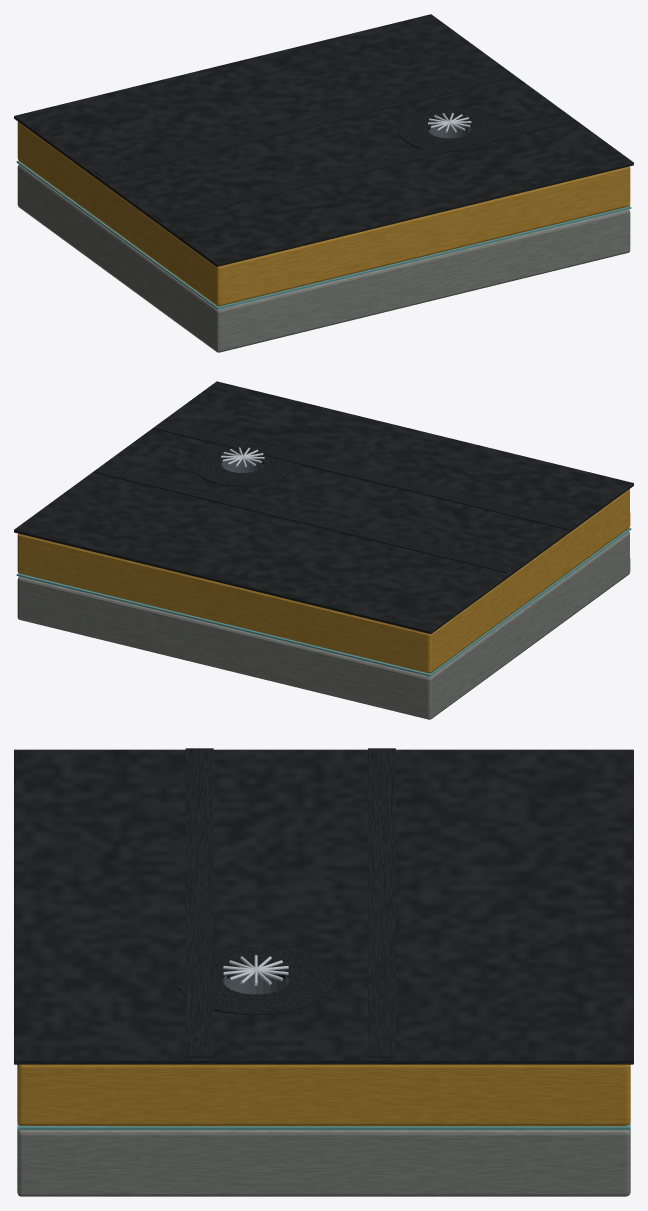
Rendered from modell.glb.
3 views of the same model, one above another, from view 1: azimuth 30°, elevation 25°; view 2: azimuth 150°, elevation 25°; view 3: azimuth 270°, elevation 25° (orthographic). The views are drawn at different scales.
Visible parts, largest first — view 1: f03-abdichtung_deckung, f03-untergrund_tragwerk, f03-daemmung_daemmung, f03-naht_deckung, f03-flansch_, f03-luftdichtheit_luftdichtheit, f03-ablauf_.002; view 2: f03-abdichtung_deckung, f03-untergrund_tragwerk, f03-daemmung_daemmung, f03-naht_deckung, f03-flansch_, f03-luftdichtheit_luftdichtheit, f03-ablauf_.002; view 3: f03-abdichtung_deckung, f03-untergrund_tragwerk, f03-daemmung_daemmung, f03-naht_deckung, f03-flansch_, f03-luftdichtheit_luftdichtheit, f03-ablauf_.002, f03-ablauf_.
Boxes of the visible parts, left/top/right/bottom form: f03-abdichtung_deckung: left=14, top=14, right=633, bottom=266; f03-untergrund_tragwerk: left=17, top=164, right=630, bottom=352; f03-daemmung_daemmung: left=17, top=122, right=630, bottom=306; f03-naht_deckung: left=93, top=70, right=575, bottom=221; f03-flansch_: left=397, top=107, right=501, bottom=152; f03-luftdichtheit_luftdichtheit: left=16, top=160, right=631, bottom=309; f03-ablauf_.002: left=428, top=113, right=471, bottom=132; f03-abdichtung_deckung: left=14, top=381, right=633, bottom=633; f03-untergrund_tragwerk: left=17, top=531, right=630, bottom=719; f03-daemmung_daemmung: left=17, top=489, right=630, bottom=673; f03-naht_deckung: left=93, top=421, right=575, bottom=573; f03-flansch_: left=191, top=442, right=294, bottom=486; f03-luftdichtheit_luftdichtheit: left=16, top=528, right=631, bottom=676; f03-ablauf_.002: left=221, top=447, right=264, bottom=467; f03-abdichtung_deckung: left=14, top=749, right=633, bottom=1064; f03-untergrund_tragwerk: left=17, top=1130, right=630, bottom=1196; f03-daemmung_daemmung: left=17, top=1064, right=630, bottom=1126; f03-naht_deckung: left=185, top=748, right=395, bottom=1057; f03-flansch_: left=176, top=947, right=335, bottom=1015; f03-luftdichtheit_luftdichtheit: left=17, top=1122, right=630, bottom=1129; f03-ablauf_.002: left=223, top=955, right=288, bottom=985; f03-ablauf_: left=223, top=973, right=288, bottom=994.
Bounding box in the file's own units: 2.22 × 0.505 × 1.87.
6 materials, 3 textured.
